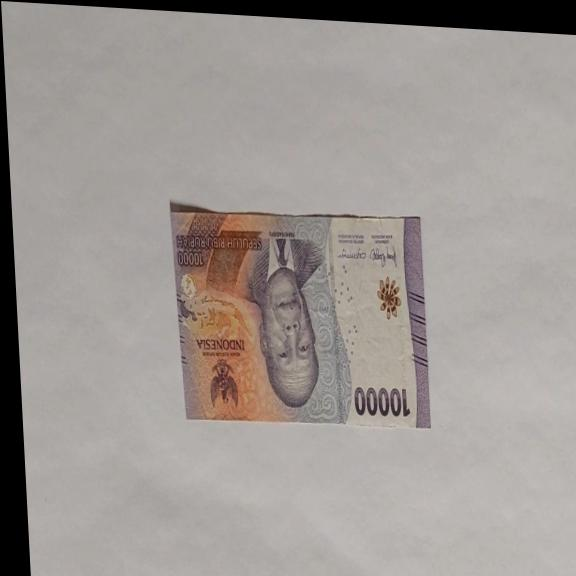Kertas: (168, 200, 432, 435), (352, 383, 412, 421)
